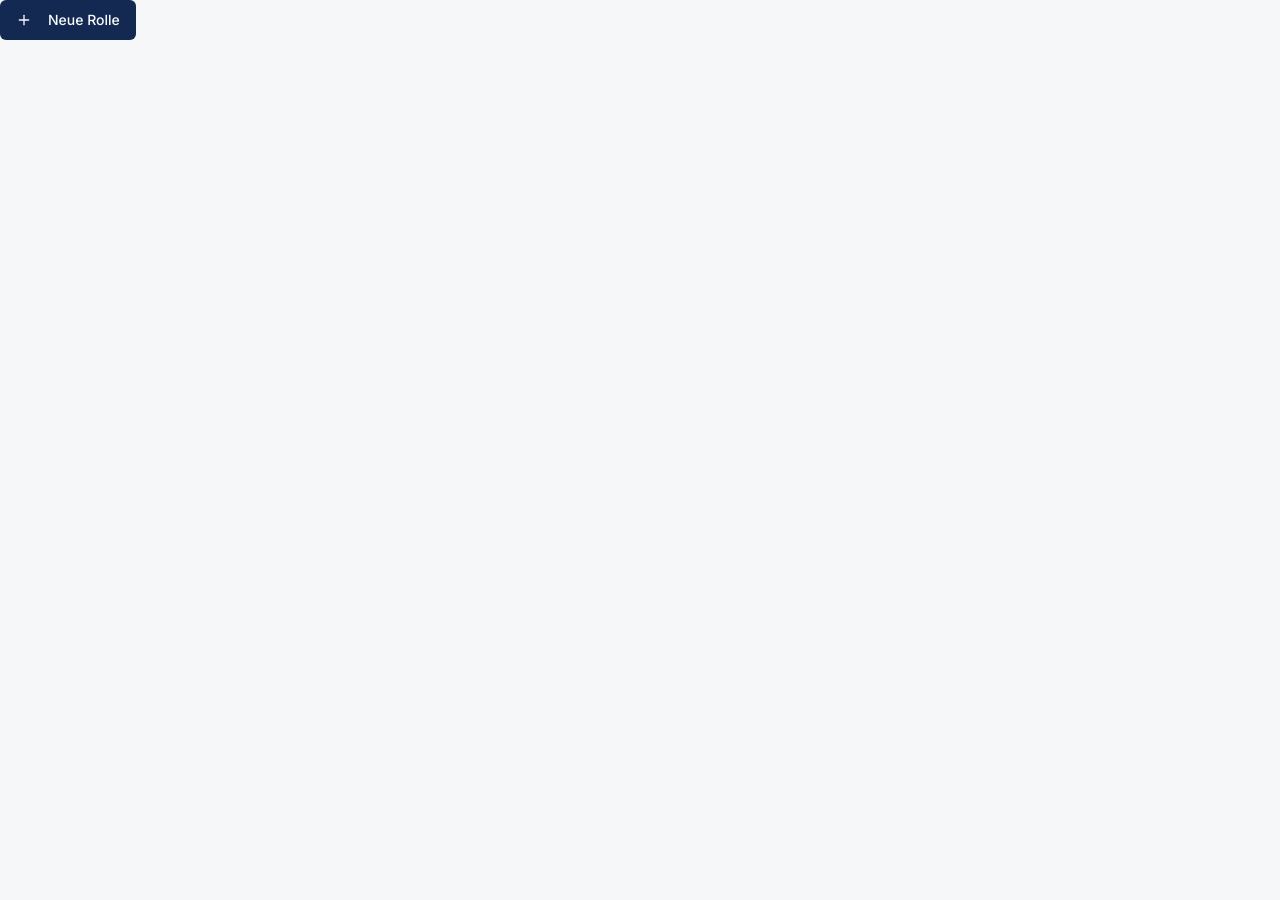
Test: CreateRoleDialog › opens dialog on button click
Step 1. Click the button "Neue Rolle" → [68, 20], box [0,0,136,40]
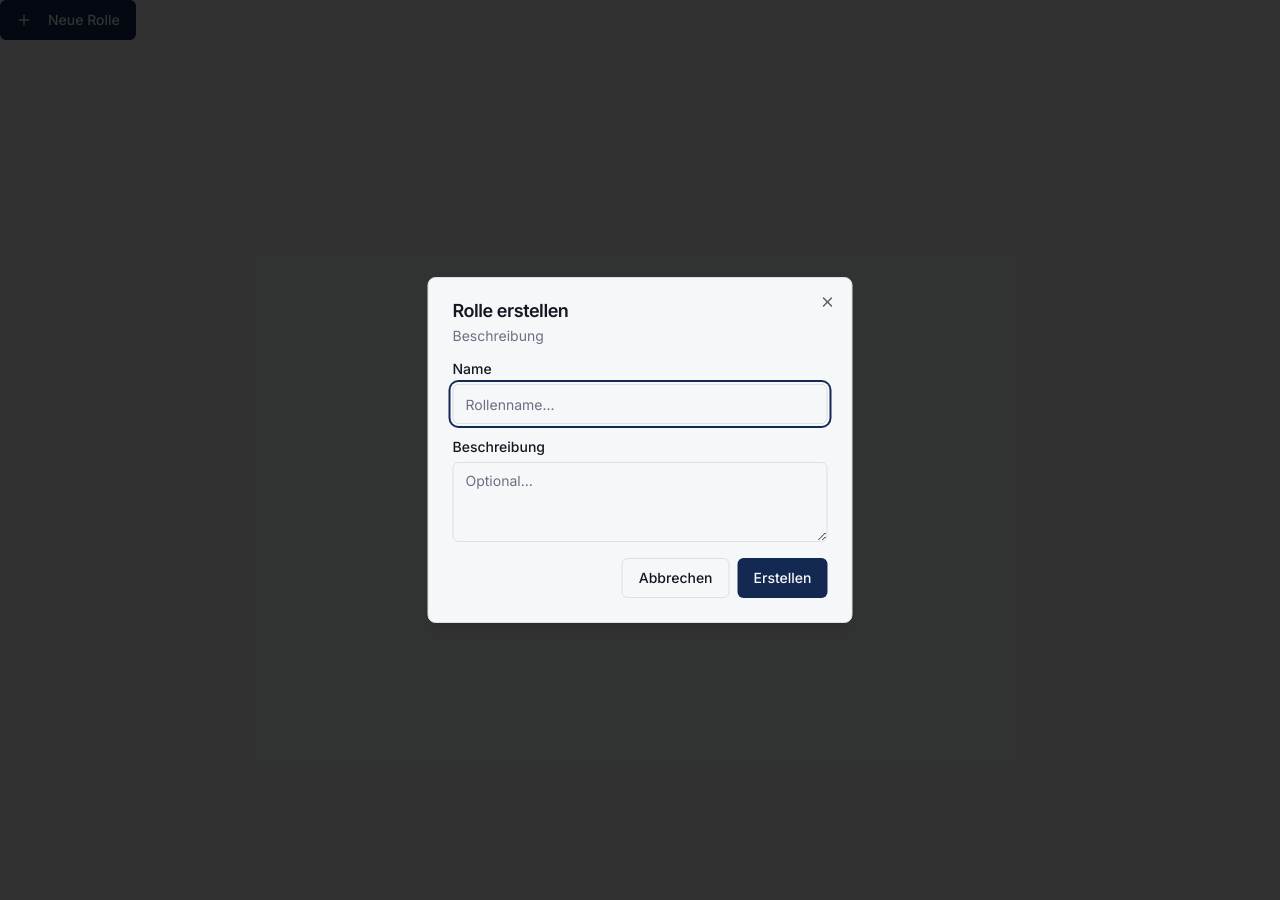
Now the heading "Rolle erstellen" is shown, box [452,300,568,321]
